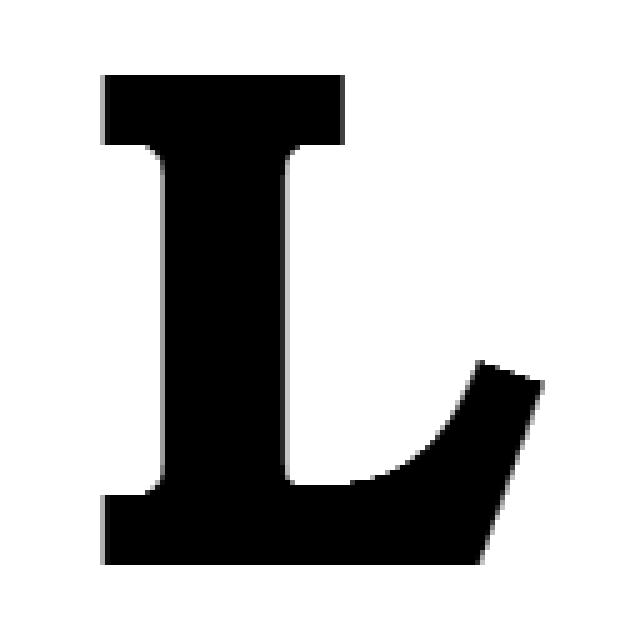L: (85, 73, 547, 572)
